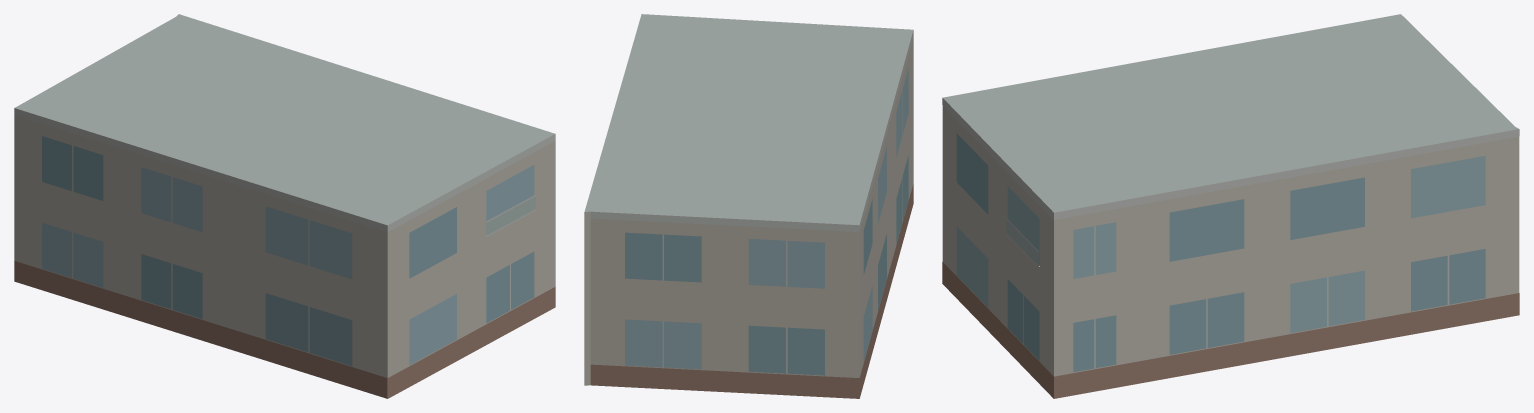
File: survey-upis-32855526.glb
The picture shows the model from 3 angles, left to right: view 1: azimuth 30°, elevation 25°; view 2: azimuth 150°, elevation 25°; view 3: azimuth 270°, elevation 25°; orthographic projection. The views are drawn at different scales.
Parts seen in each view (by area): view 1: survey-upis-32855526.tmp; view 2: survey-upis-32855526.tmp; view 3: survey-upis-32855526.tmp.
Part boxes in pixels (x1,y1,x2,y2): survey-upis-32855526.tmp: (14, 14, 555, 398); survey-upis-32855526.tmp: (584, 14, 913, 398); survey-upis-32855526.tmp: (942, 14, 1519, 398).
Size of the model in its own units: 13.97 by 6.1 by 17.14.
